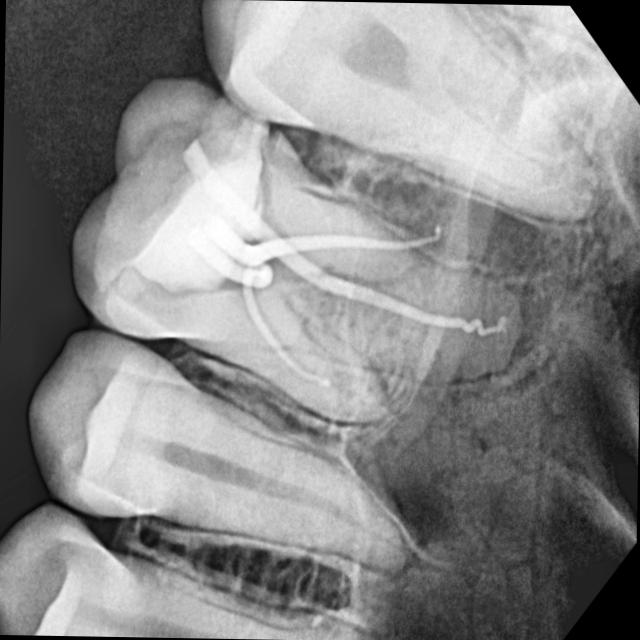Normal: (4, 316, 431, 592)
RCT: (41, 38, 576, 472)
